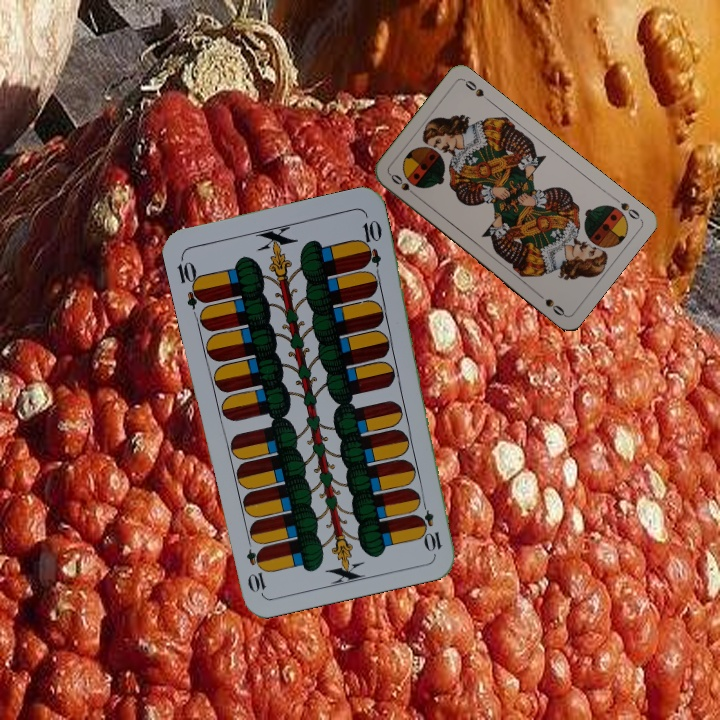E10: (173, 252, 208, 311), (416, 495, 445, 554)
SO: (386, 170, 420, 200), (608, 193, 642, 222)
